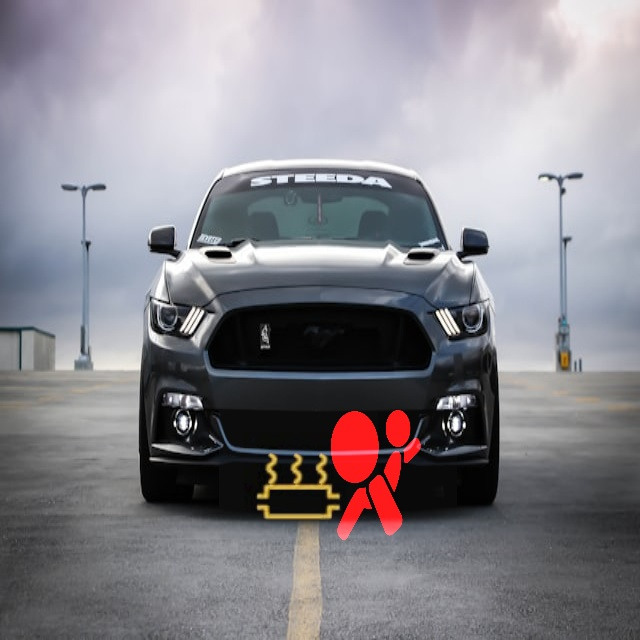symbol: (283, 384, 457, 558), (219, 407, 378, 566)
